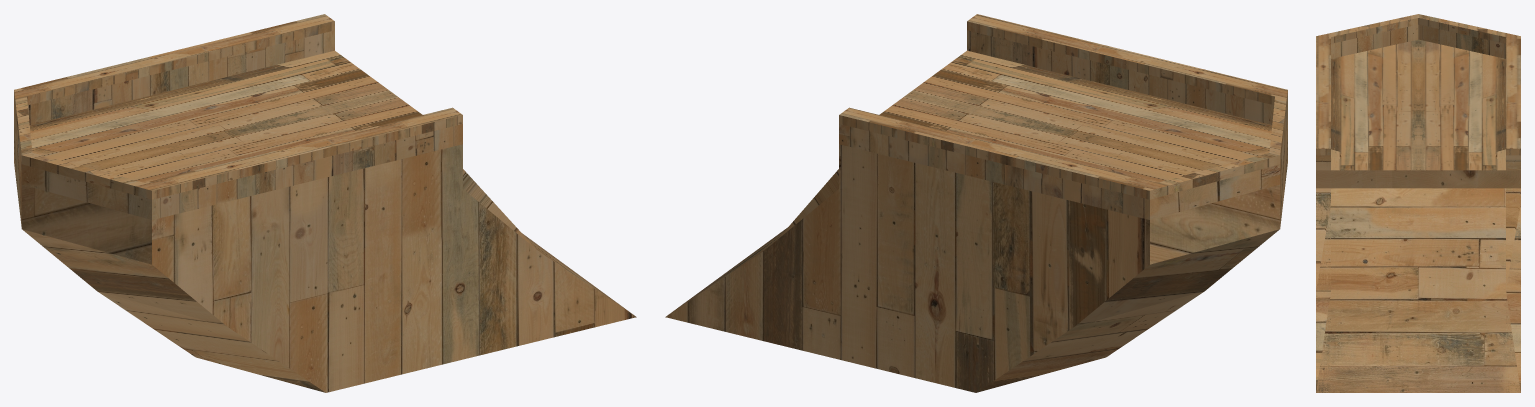
Rendered from ship_deck.glb.
The picture shows the model from 3 angles, left to right: view 1: azimuth 30°, elevation 25°; view 2: azimuth 150°, elevation 25°; view 3: azimuth 270°, elevation 25°; orthographic projection. The views are drawn at different scales.
Visible parts, largest first — view 1: deck; view 2: deck; view 3: deck.
Boxes of the visible parts, x1=… form: deck: x1=14, y1=14, x2=636, y2=392; deck: x1=665, y1=14, x2=1287, y2=392; deck: x1=1316, y1=14, x2=1520, y2=392.
Size of the model in its own units: 46.98 by 20.11 by 20.57.
2 materials, 2 textured.
